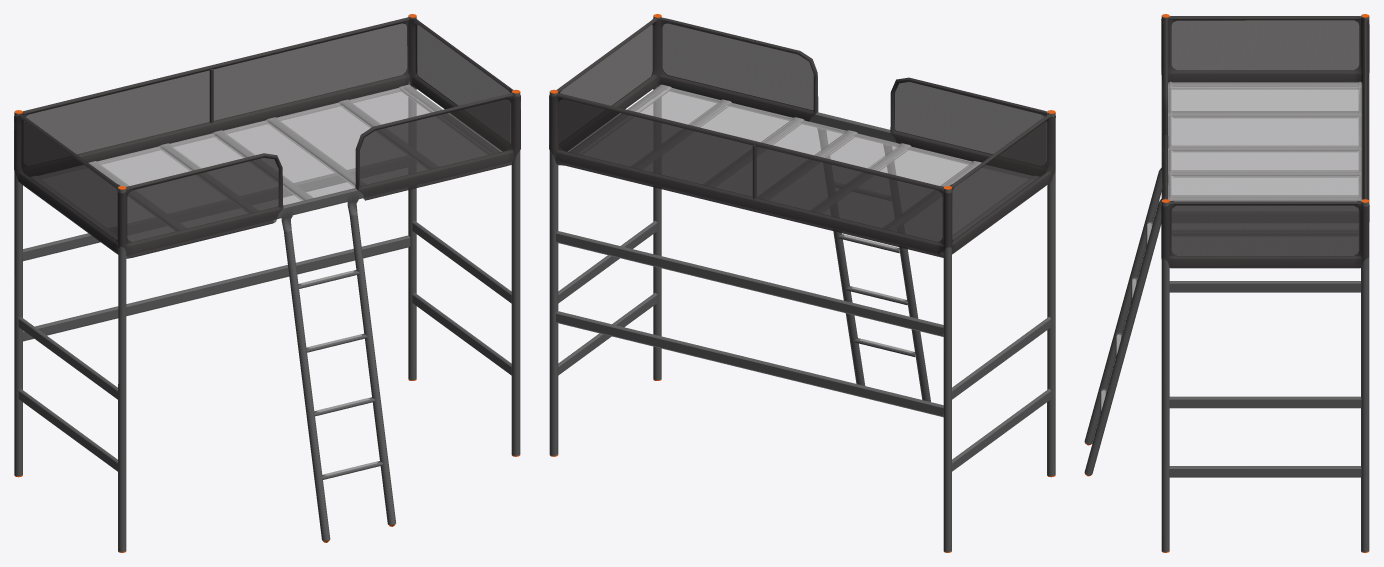
Rendered from tuffing_rama_ozka_na_antresoli_90299449.glb.
3 views of the same model, side by side, from view 1: azimuth 30°, elevation 25°; view 2: azimuth 150°, elevation 25°; view 3: azimuth 270°, elevation 25° (orthographic). The views are drawn at different scales.
Visible parts, largest first — view 1: tuffing_rama_ozka_na_antresoli_90299449; view 2: tuffing_rama_ozka_na_antresoli_90299449; view 3: tuffing_rama_ozka_na_antresoli_90299449.
Boxes of the visible parts, x1,y1,x2,y2 form: tuffing_rama_ozka_na_antresoli_90299449: (14, 14, 520, 552); tuffing_rama_ozka_na_antresoli_90299449: (549, 14, 1055, 552); tuffing_rama_ozka_na_antresoli_90299449: (1084, 14, 1369, 552).
Bounding box in the file's own units: 2.07 × 1.8 × 1.32.
2 materials, 2 textured.
